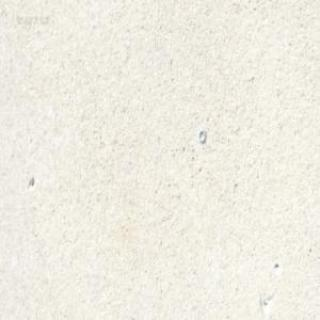Washertrack_idkeyframe: (197, 127, 205, 143)
